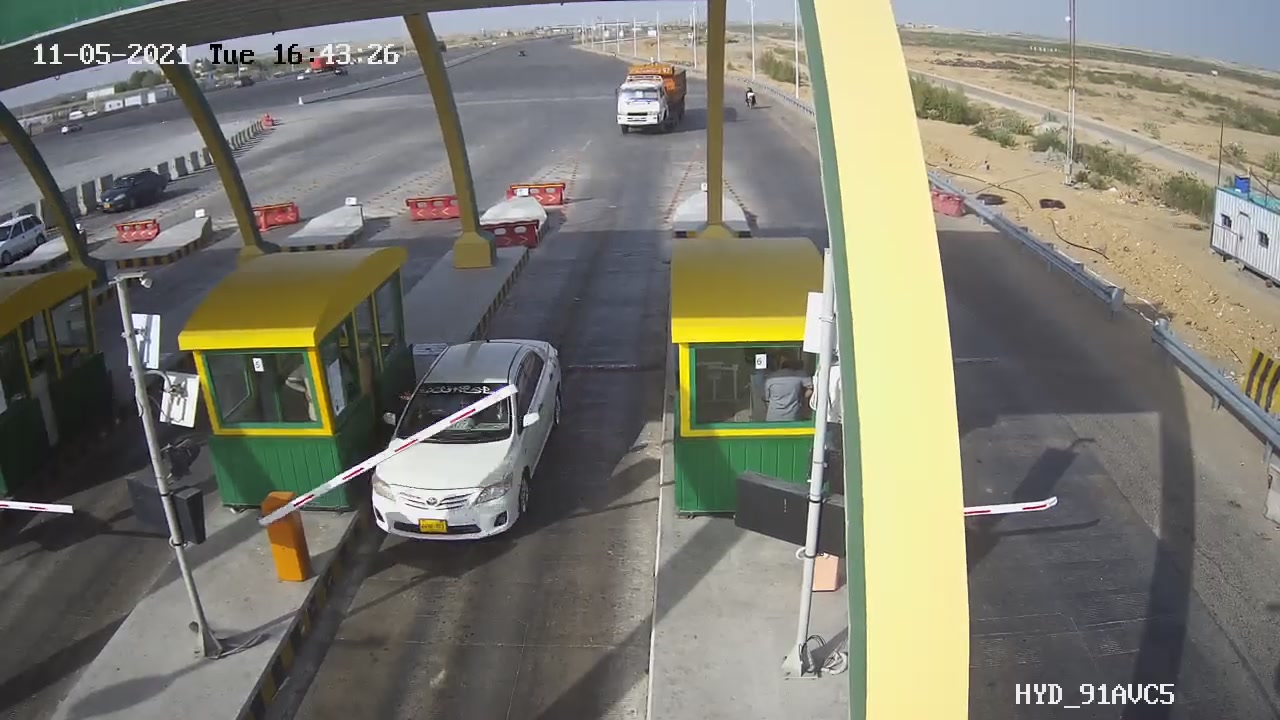F1: (342, 318, 585, 567)
